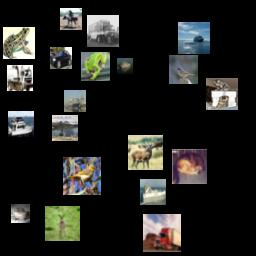airplane: (52, 115, 78, 141)
automobile: (50, 47, 72, 69)
bird: (63, 157, 101, 195), (169, 55, 198, 84)
cat: (206, 78, 238, 110), (11, 204, 30, 223)
deer: (128, 135, 163, 170), (45, 206, 80, 241)
dog: (172, 149, 207, 184)
frog: (3, 27, 35, 59), (81, 52, 110, 81)
ship: (178, 22, 210, 54), (8, 111, 34, 137), (140, 179, 166, 205), (64, 90, 86, 112), (117, 58, 133, 74)
truck: (143, 214, 181, 252), (87, 15, 119, 47), (7, 65, 33, 91)
